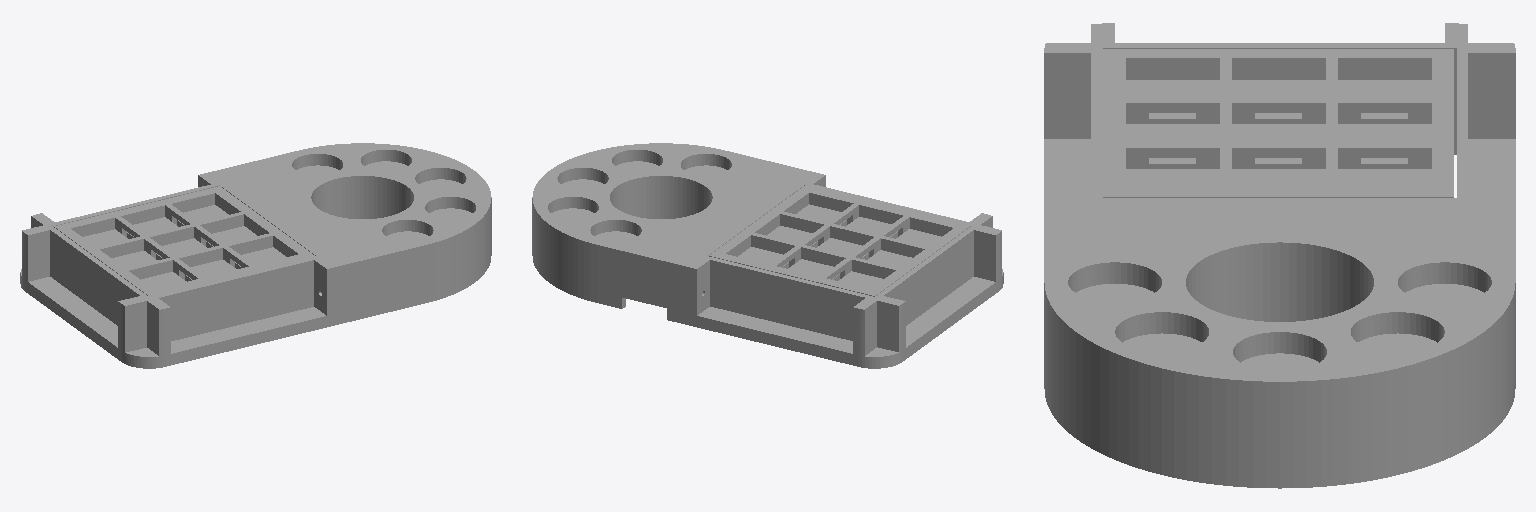
robot.urdf — board:
<?xml version="1.0"?>
<robot name="board">
  <link name="board_link">

    <!-- 3D 프린터 PLA 가정 (대략 1.44 kg) -->
    <inertial>
      <!-- 관성 기준점: STL 좌표계 기준 질량중심 위치 (m) -->
      <origin xyz="-0.08556 -0.00048 0.02826" rpy="0 0 0"/>
      <mass value="1.436"/>

      <!-- 직육면체 근사로 계산한 관성모멘트 (kg·m^2) -->
      <inertia
        ixx="0.00509"
        ixy="0.0"
        ixz="0.0"
        iyy="0.01581"
        iyz="0.0"
        izz="0.02030"/>
    </inertial>

    <visual>
      <!-- STL 원래 좌표계 그대로 사용 -->
      <origin xyz="0 0 0" rpy="0 0 0"/>
      <geometry>
        <!-- 패키지 경로는 프로젝트에 맞게 수정해서 쓰면 됨 -->
        <mesh filename="package://kat_description/meshes/board/board_assembled.stl"
              scale="0.001 0.001 0.001"/>
      </geometry>
      <material name="board_color">
        <color rgba="0.7 0.7 0.7 1.0"/>
      </material>
    </visual>

    <collision>
      <origin xyz="0 0 0" rpy="0 0 0"/>
      <geometry>
        <mesh filename="package://kat_description/meshes/board/board_assembled.stl"
              scale="0.001 0.001 0.001"/>
      </geometry>
    </collision>

  </link>
</robot>

--- Facts derived from the render (not from the file) ---
The picture shows the robot from 3 angles, left to right: view 1: azimuth 30°, elevation 25°; view 2: azimuth 150°, elevation 25°; view 3: azimuth 270°, elevation 25°; orthographic projection.
Model board with 1 links and 0 joints (none), rooted at board_link, posed all joints at 0.
Visible links, largest first — view 1: board_link; view 2: board_link; view 3: board_link.
Boxes of the visible links, x1,y1,x2,y2 form: board_link: (20, 143, 491, 368); board_link: (532, 143, 1003, 368); board_link: (1044, 23, 1515, 488).
Size in the robot's own frame: 0.36 by 0.2 by 0.05 metres.
Meshes: 1 distinct files referenced, 1 mesh visuals loaded (1 binary STL).
